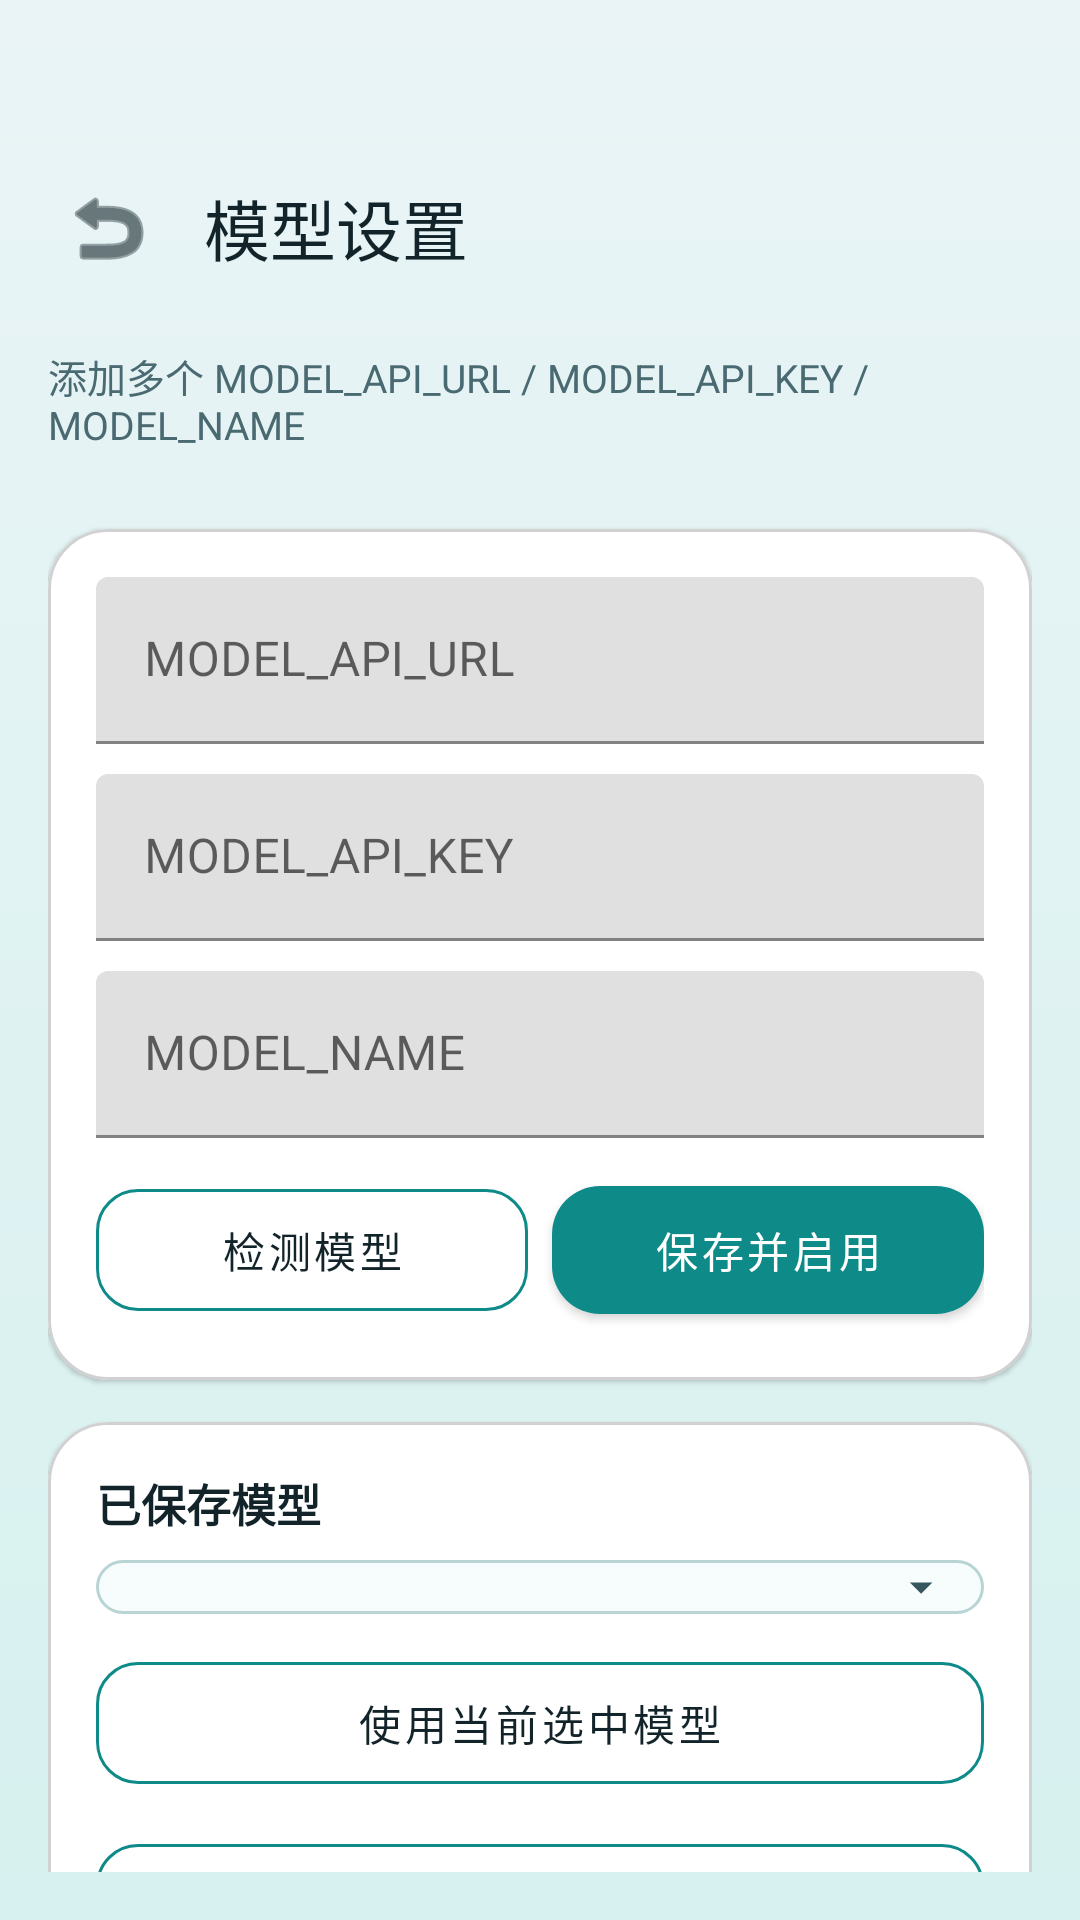

Icons on this 1080 x 1920 Android screen, each with its box as region(x1, y1, x2, y2):
revert: region(75, 197, 144, 260)
